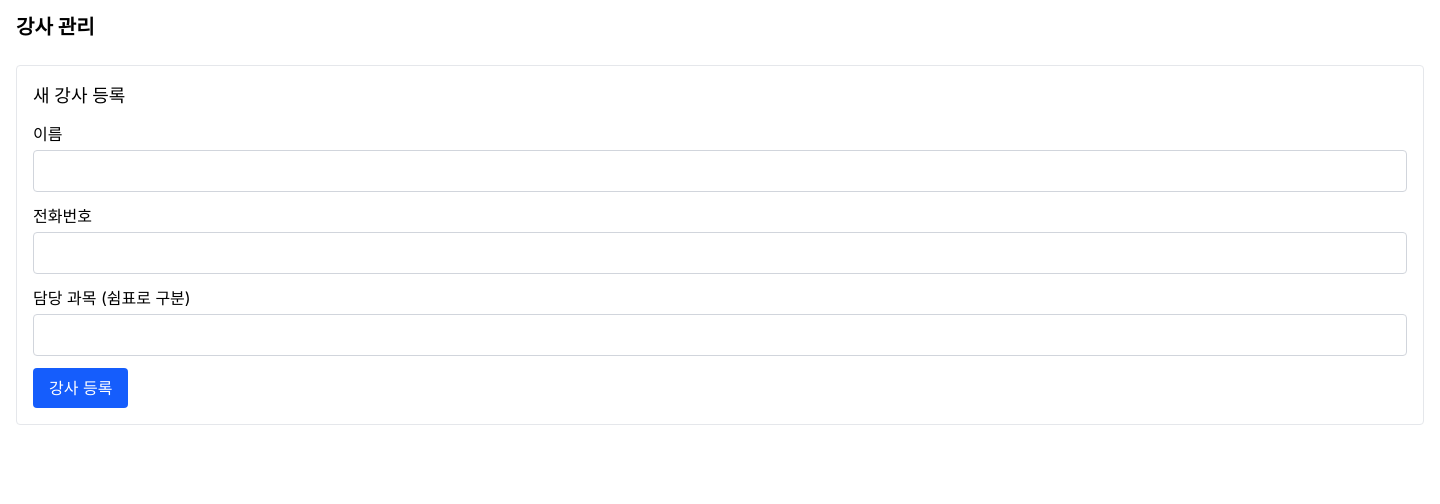
Test: InstructorListPage › submits the create form and reloads the list
Step 1. Type "박선생" into the field labelled "이름" → {"x": 720, "y": 171}, box [33,150,1407,192]
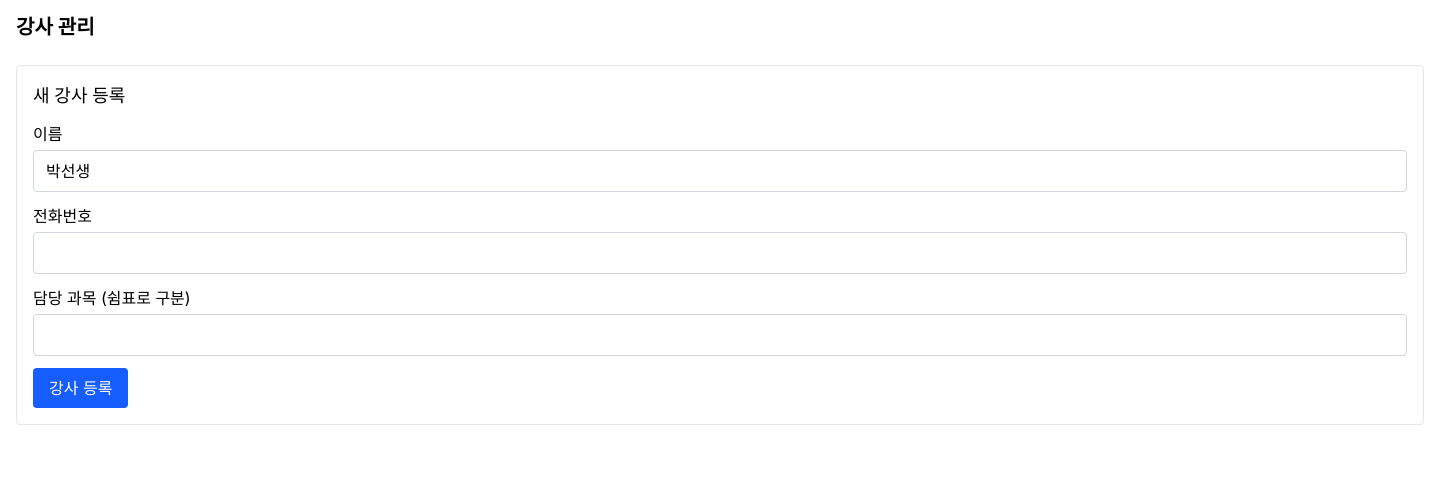
Step 2. Type "01033334444" into the field labelled "전화번호" → {"x": 720, "y": 253}, box [33,232,1407,274]
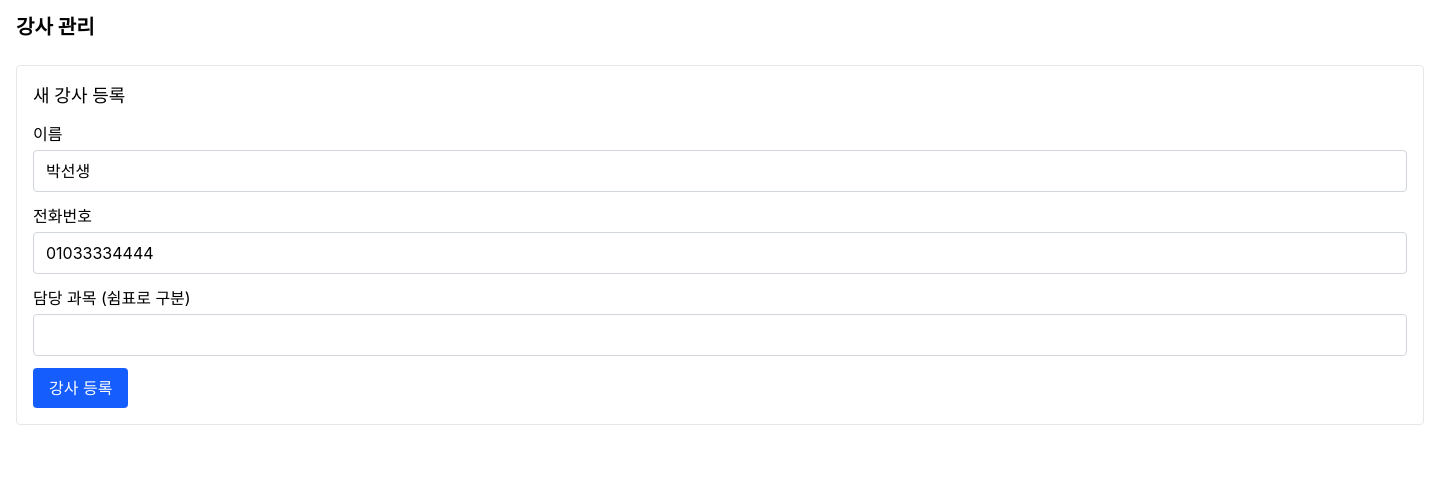
Step 3. Type "국어, 사회" into the field labelled "담당 과목 (쉼표로 구분)" → {"x": 720, "y": 335}, box [33,314,1407,356]
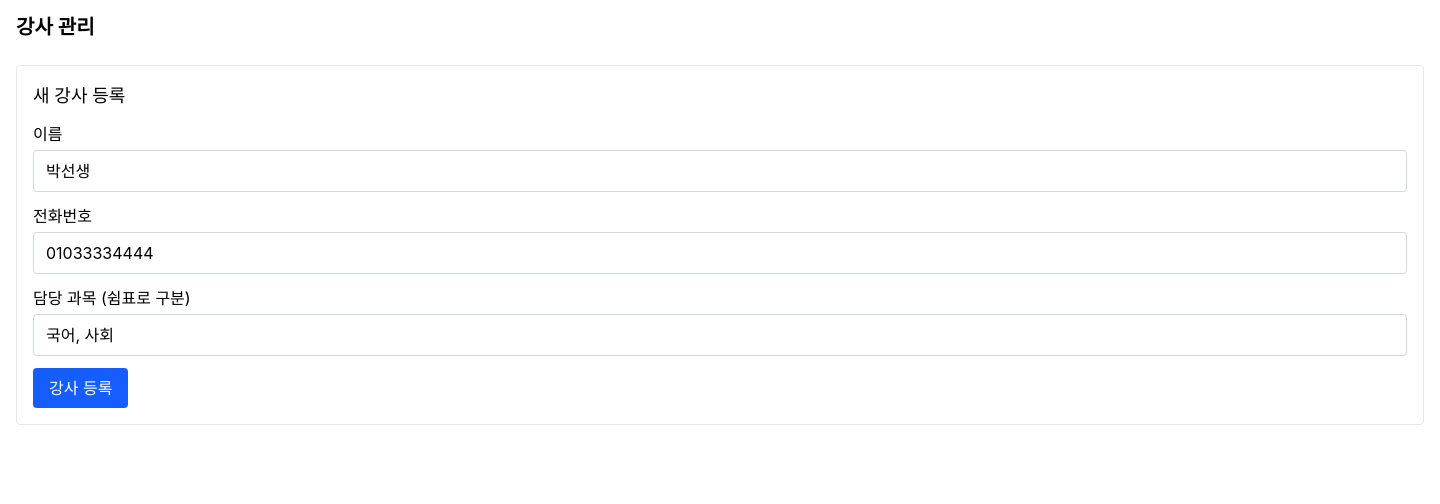
Step 4. Click the button "강사 등록" → {"x": 81, "y": 388}, box [33,368,128,408]
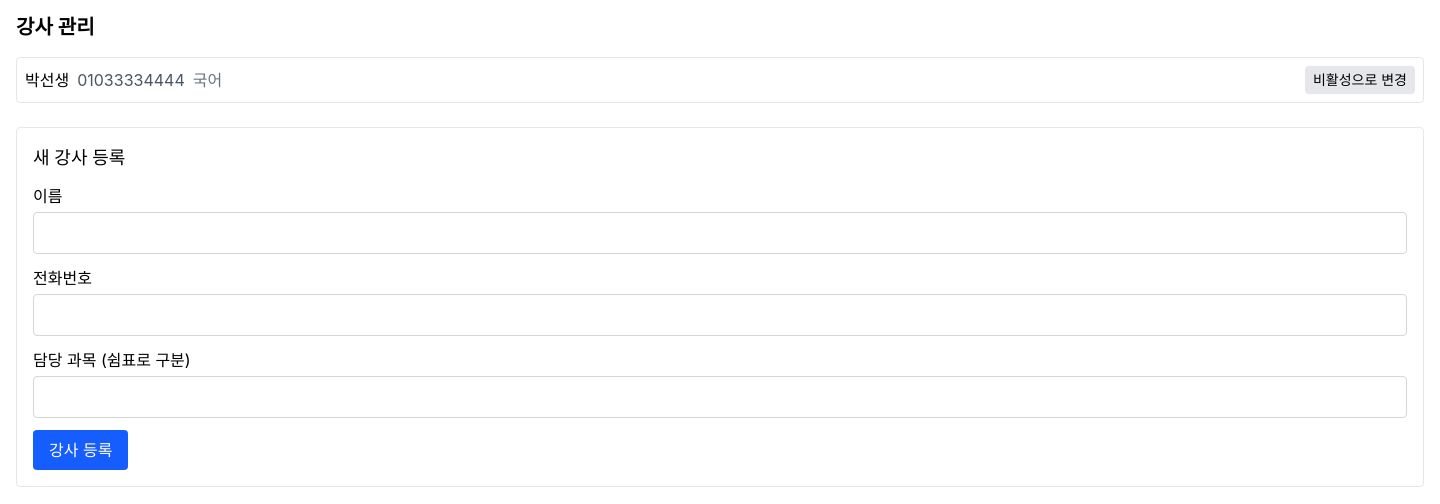
Check: the text "박선생" is shown, box [25,70,69,90]
